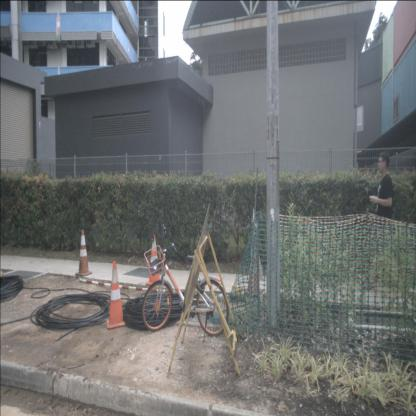cone: (106, 260, 126, 330), (246, 240, 263, 296), (146, 234, 162, 288), (74, 229, 92, 277)
